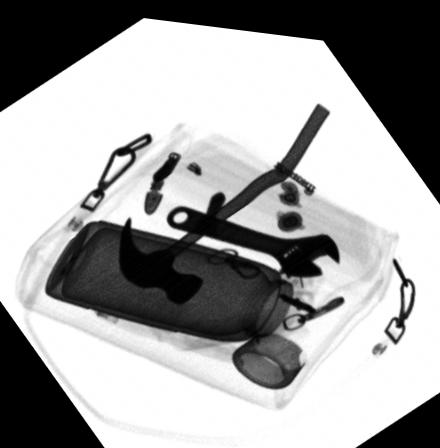Hammer: (116, 93, 332, 299)
Wrench: (165, 199, 341, 271)
